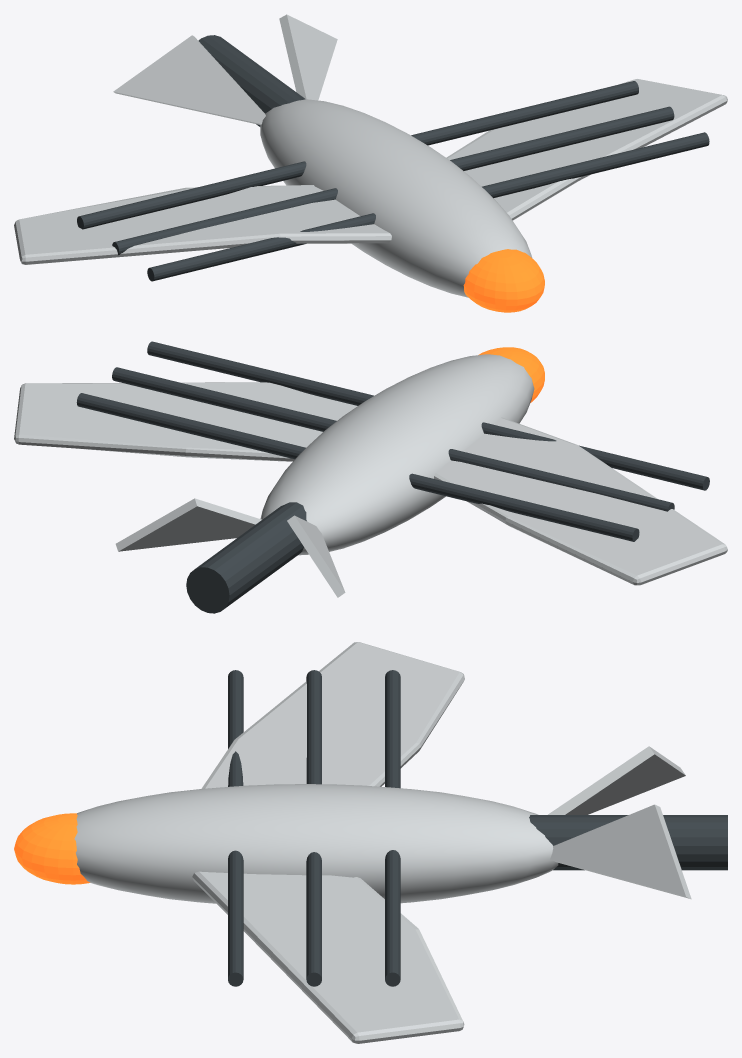
Rendered from bio-drone.glb.
3 views of the same model, one above another, from view 1: azimuth 30°, elevation 25°; view 2: azimuth 150°, elevation 25°; view 3: azimuth 270°, elevation 25° (orthographic). The views are drawn at different scales.
Parts seen in each view (by area): view 1: Drone_Body, Drone_Wing_R, Drone_Wing_L, Drone_TailFin_R, Drone_SensorCore, Drone_WingRib_R_03, Drone_WingRib_L_01, Drone_WingRib_L_03, Drone_WingRib_L_02, Drone_TailFin_L, Drone_TailSpine, Drone_WingRib_R_01 (+1 smaller); view 2: Drone_Body, Drone_Wing_R, Drone_Wing_L, Drone_TailSpine, Drone_TailFin_L, Drone_WingRib_R_03, Drone_WingRib_L_03, Drone_WingRib_L_02, Drone_WingRib_L_01, Drone_WingRib_R_02, Drone_WingRib_R_01, Drone_TailFin_R (+1 smaller); view 3: Drone_Body, Drone_Wing_L, Drone_Wing_R, Drone_TailFin_L, Drone_TailSpine, Drone_TailFin_R, Drone_SensorCore, Drone_WingRib_L_03, Drone_WingRib_L_01, Drone_WingRib_L_02, Drone_WingRib_R_03, Drone_WingRib_R_02 (+1 smaller).
Part boxes in pixels (bbox=[...]): Drone_Body: bbox=[260, 99, 532, 297]; Drone_Wing_R: bbox=[14, 185, 391, 264]; Drone_Wing_L: bbox=[446, 79, 727, 220]; Drone_TailFin_R: bbox=[113, 35, 265, 124]; Drone_SensorCore: bbox=[463, 249, 544, 312]; Drone_WingRib_R_03: bbox=[77, 161, 306, 229]; Drone_WingRib_L_01: bbox=[482, 132, 709, 198]; Drone_WingRib_L_03: bbox=[411, 81, 638, 145]; Drone_WingRib_L_02: bbox=[450, 106, 674, 170]; Drone_TailFin_L: bbox=[279, 14, 337, 100]; Drone_TailSpine: bbox=[198, 35, 305, 126]; Drone_WingRib_R_01: bbox=[147, 213, 375, 281]; Drone_Body: bbox=[260, 354, 534, 555]; Drone_Wing_R: bbox=[434, 417, 727, 585]; Drone_Wing_L: bbox=[14, 382, 357, 461]; Drone_TailSpine: bbox=[186, 502, 306, 613]; Drone_TailFin_L: bbox=[115, 498, 261, 551]; Drone_WingRib_R_03: bbox=[409, 473, 639, 541]; Drone_WingRib_L_03: bbox=[76, 393, 305, 459]; Drone_WingRib_L_02: bbox=[112, 367, 336, 431]; Drone_WingRib_L_01: bbox=[147, 341, 373, 405]; Drone_WingRib_R_02: bbox=[448, 449, 674, 511]; Drone_WingRib_R_01: bbox=[481, 422, 709, 490]; Drone_TailFin_R: bbox=[287, 515, 345, 597]; Drone_Body: bbox=[74, 784, 558, 903]; Drone_Wing_L: bbox=[192, 871, 464, 1043]; Drone_Wing_R: bbox=[201, 642, 464, 788]; Drone_TailFin_L: bbox=[550, 804, 691, 899]; Drone_TailSpine: bbox=[529, 815, 727, 870]; Drone_TailFin_R: bbox=[548, 746, 685, 814]; Drone_SensorCore: bbox=[14, 813, 89, 884]; Drone_WingRib_L_03: bbox=[385, 850, 400, 986]; Drone_WingRib_L_01: bbox=[228, 850, 243, 986]; Drone_WingRib_L_02: bbox=[306, 852, 321, 986]; Drone_WingRib_R_03: bbox=[385, 670, 400, 788]; Drone_WingRib_R_02: bbox=[306, 670, 321, 784].
Bounding box in the file's own units: 5.21 × 0.774 × 4.09.
